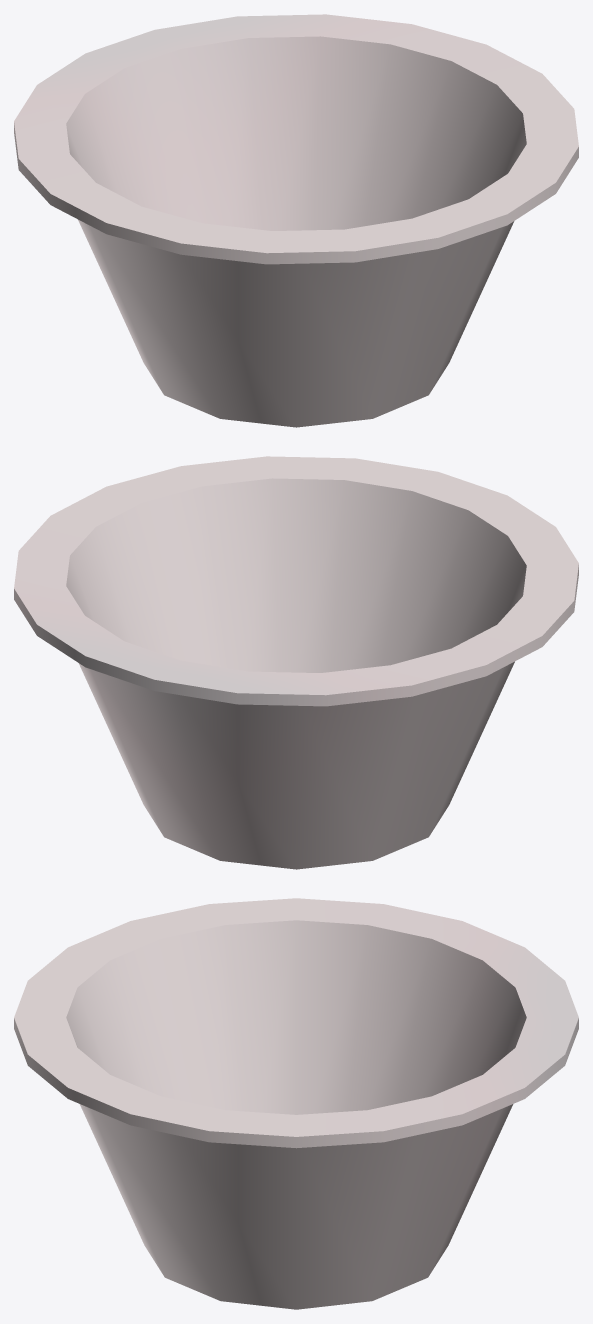
The model's file is Pfb_JLAB_Bowl.fbx.
3 renders of one model, top to bottom at view 1: azimuth 30°, elevation 25°; view 2: azimuth 150°, elevation 25°; view 3: azimuth 270°, elevation 25°, orthographic.
Parts seen in each view (by area): view 1: Metal; view 2: Metal; view 3: Metal.
Part boxes in pixels (x1,y1,x2,y2): Metal: (14, 14, 578, 427); Metal: (14, 456, 578, 869); Metal: (14, 898, 578, 1309).
Size of the model in its own units: 0.1464 by 0.0652 by 0.1464.
1 material, 1 textured.
